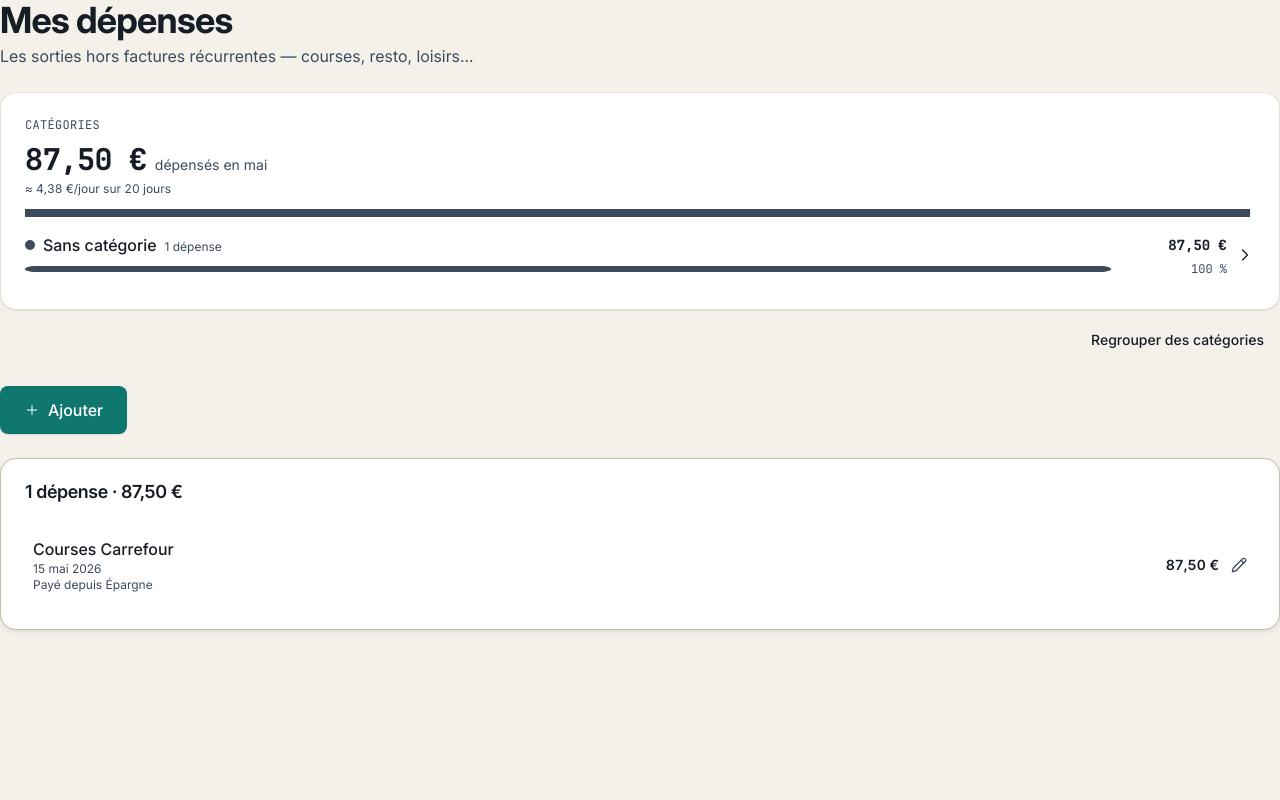
Test: <ExpensesClient /> — « Depuis », the account of an expense (rule 25) › ticks the account the expense was paid from when the drawer opens
Click the button with test id "expenses-row-edit-e1" at [103, 549], box [25,525,1255,605]
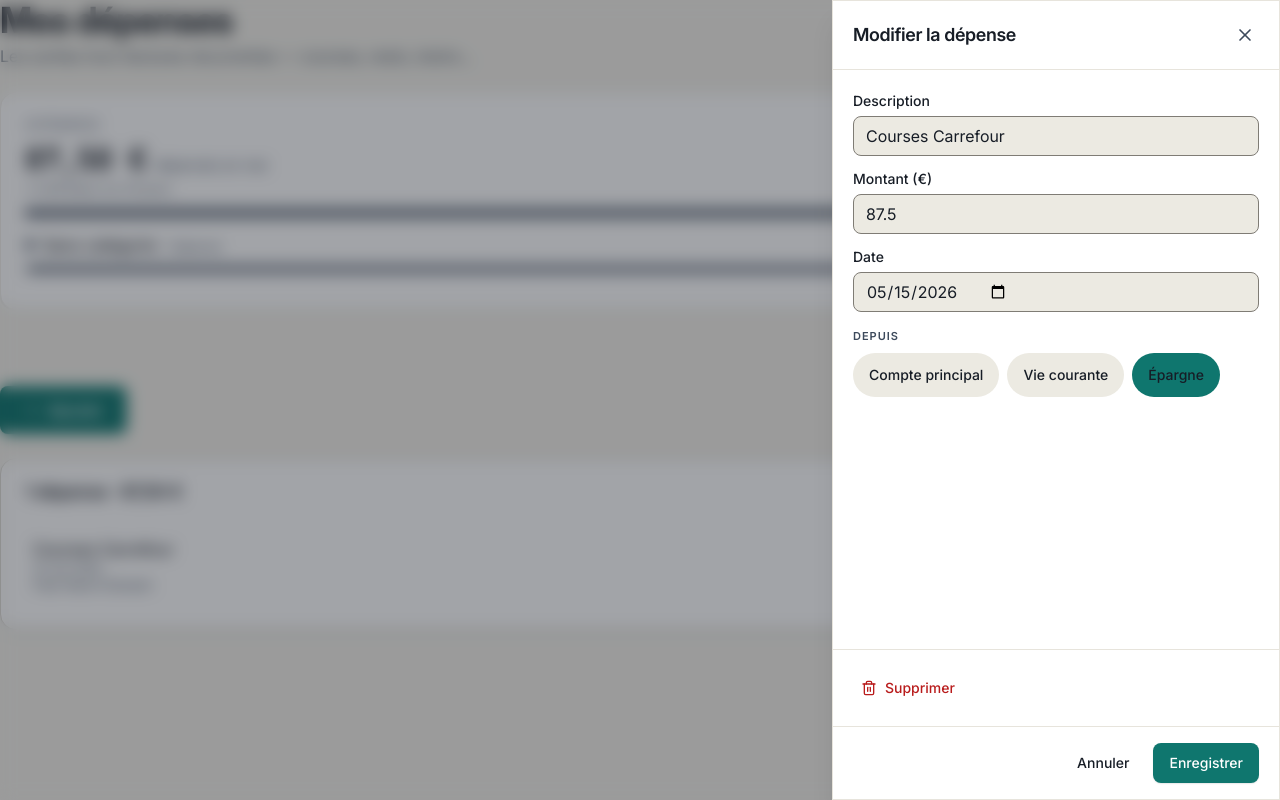
Result: the dialog with test id "expense-edit-drawer" is shown
Result: the radio button labelled "Épargne" is checked at [1132,352,1220,396]
